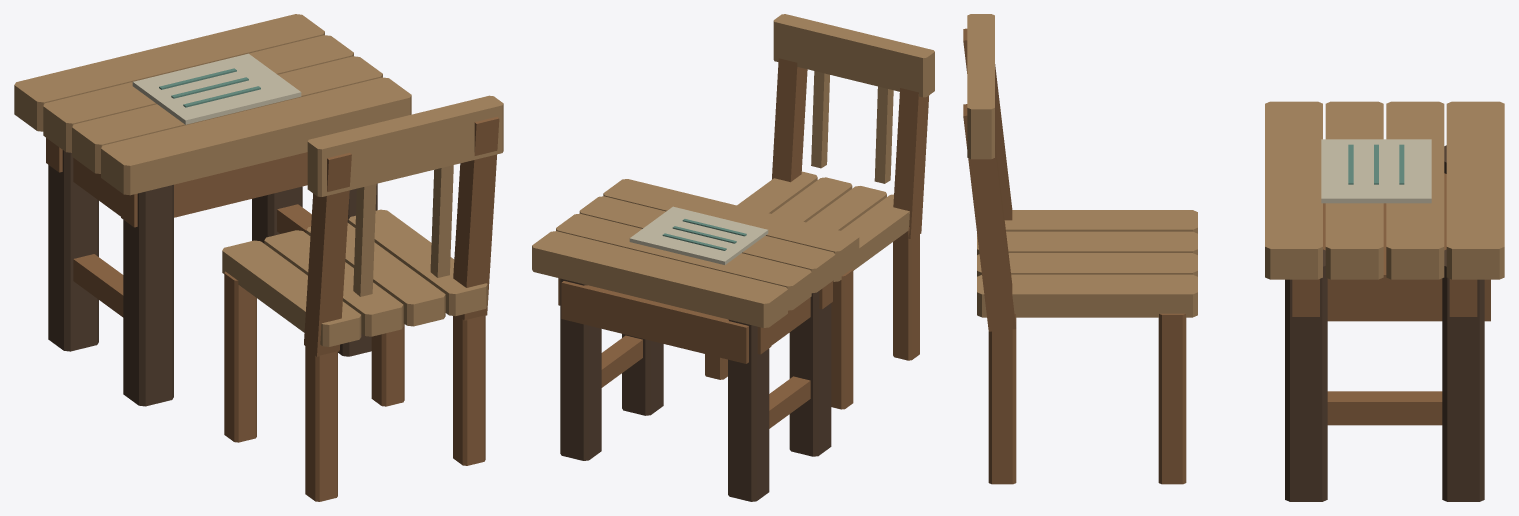
The model's file is desk_student.glb.
3 renders of one model, left to right at view 1: azimuth 30°, elevation 25°; view 2: azimuth 150°, elevation 25°; view 3: azimuth 270°, elevation 25°, orthographic. The views are drawn at different scales.
Parts seen in each view (by area): view 1: geometry; view 2: geometry; view 3: geometry.
Boxes of the visible parts, box(x1,y1,x2,y2) form: geometry: box(14, 14, 503, 501); geometry: box(532, 14, 934, 501); geometry: box(963, 14, 1504, 501).
Size of the model in its own units: 0.82 by 0.985 by 1.27.
